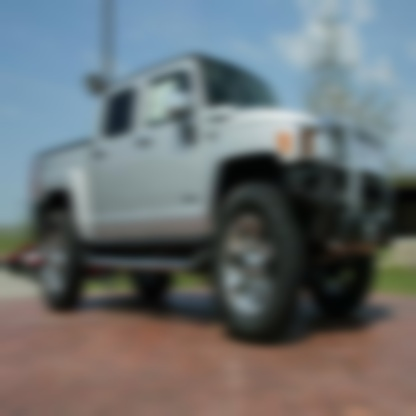Vehicle: (31, 48, 397, 347)
